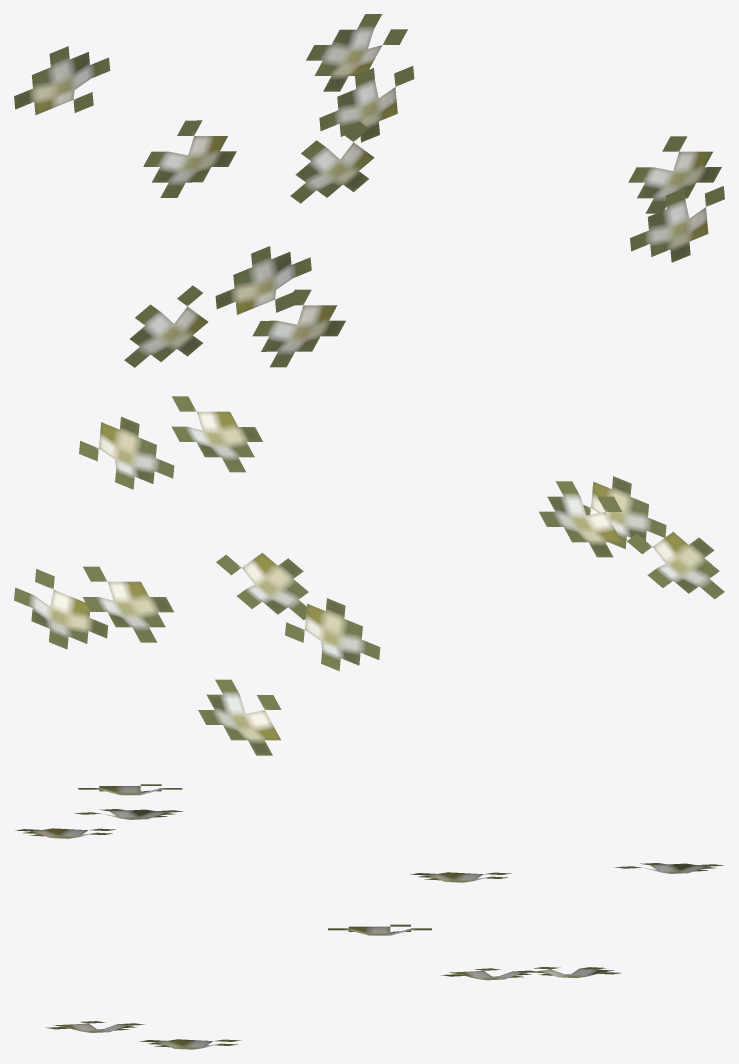
Rendered from ObjMD_Grass_A_Flower_A.FBX.
The picture shows the model from 3 angles, top to bottom: view 1: azimuth 30°, elevation 25°; view 2: azimuth 150°, elevation 25°; view 3: azimuth 270°, elevation 25°; orthographic projection. The views are drawn at different scales.
Visible parts, largest first — view 1: ObjMD_Grass_A_Flower_A; view 2: ObjMD_Grass_A_Flower_A; view 3: ObjMD_Grass_A_Flower_A.
Part boxes in pixels (bbox=[...]): ObjMD_Grass_A_Flower_A: bbox=[14, 14, 724, 367]; ObjMD_Grass_A_Flower_A: bbox=[14, 396, 724, 755]; ObjMD_Grass_A_Flower_A: bbox=[15, 784, 723, 1049].
Bounding box in the file's own units: 208 × 22.91 × 214.
